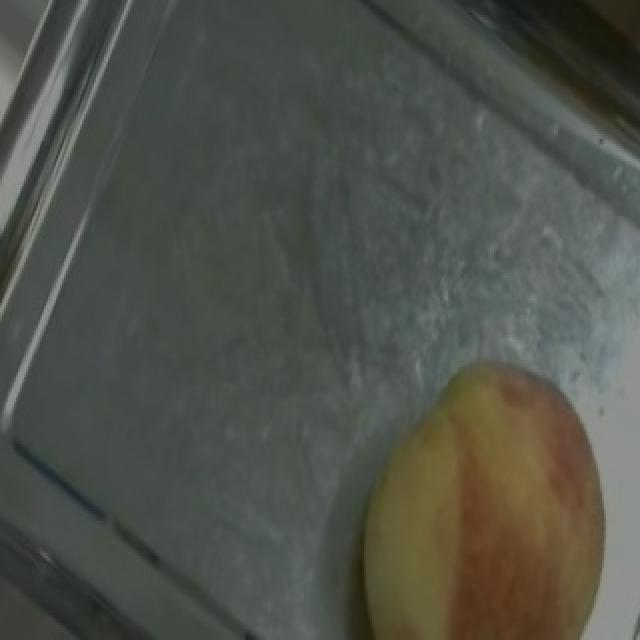Fruit: (324, 337, 640, 640)
